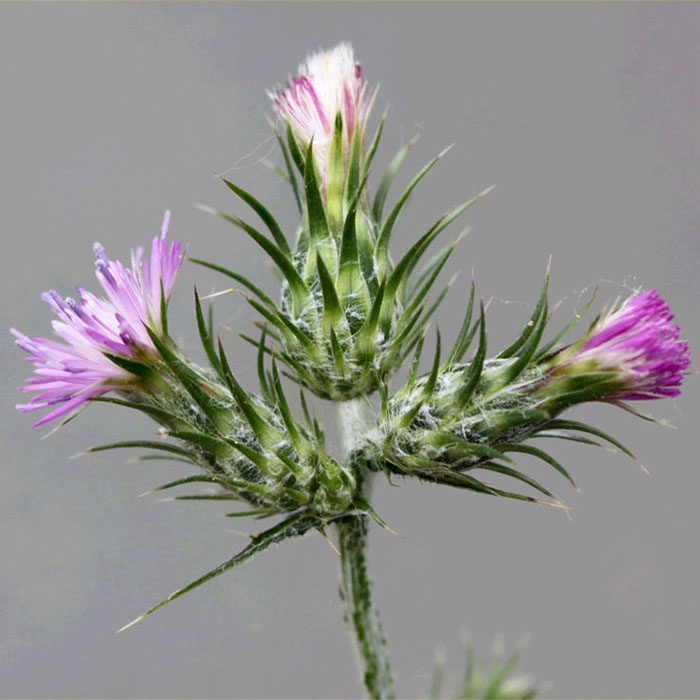thistle: (27, 254, 354, 556), (389, 257, 689, 526)
